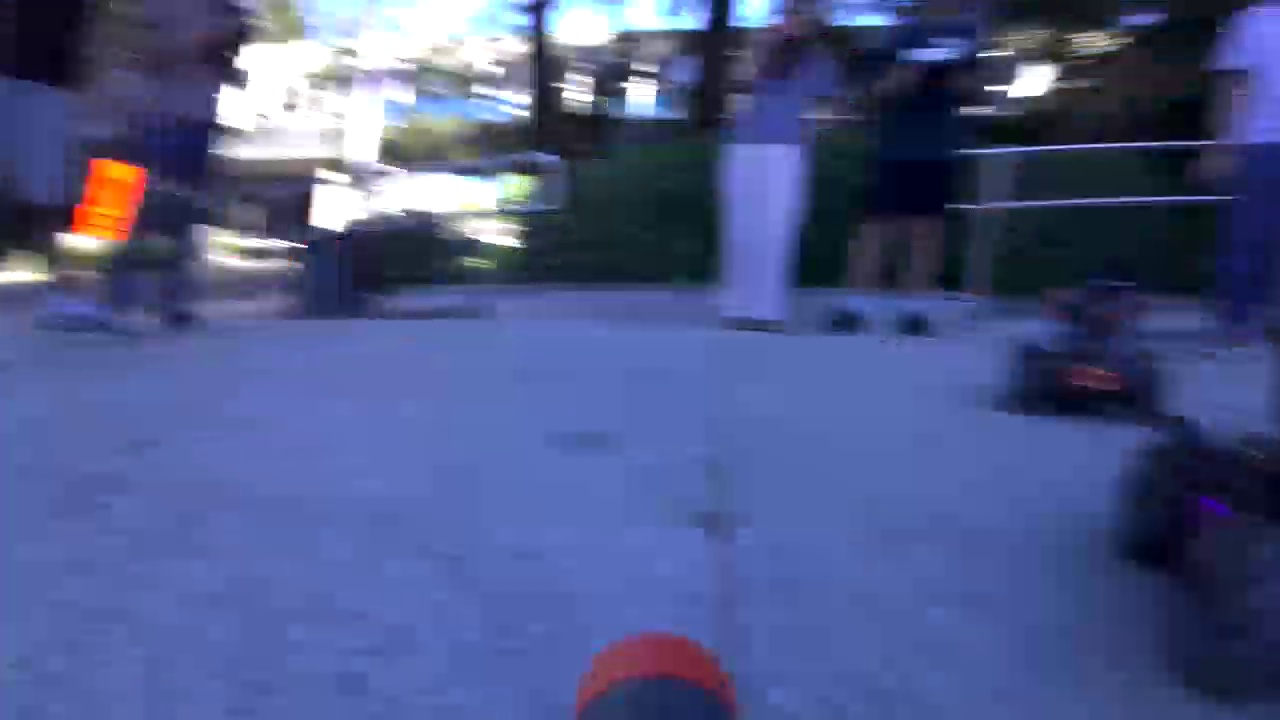robot: (1100, 395, 1280, 713), (1016, 290, 1142, 415)
